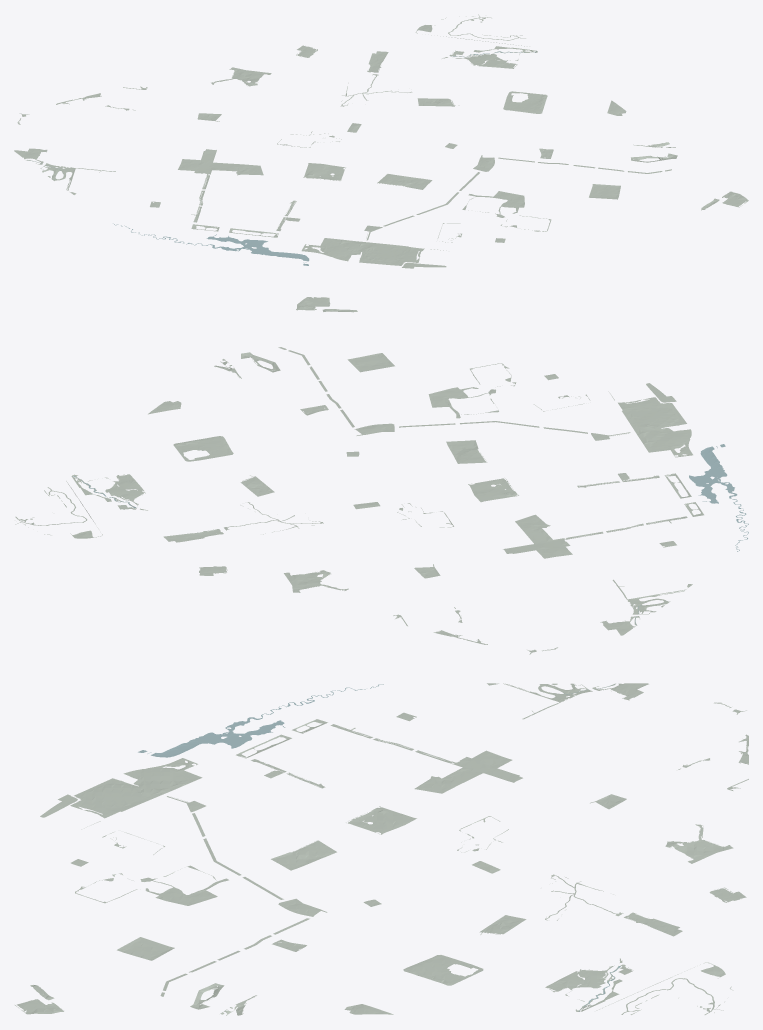
File: churchill-meadows-context-17.glb
3 renders of one model, top to bottom at view 1: azimuth 30°, elevation 25°; view 2: azimuth 150°, elevation 25°; view 3: azimuth 270°, elevation 25°, orthographic. The views are drawn at different scales.
Visible parts, largest first — view 1: Park (×2), River; view 2: Park (×2), River; view 3: Park (×2), River.
Part boxes in pixels (box(x1,y1,x2,y2)): Park (×2): box(14, 14, 748, 268); River: box(28, 51, 536, 265); Park (×2): box(15, 297, 703, 654); River: box(73, 444, 748, 624); Park (×2): box(15, 683, 748, 1015); River: box(138, 684, 620, 1011).
Bounding box in the file's own units: 4000 × 38.74 × 3788.
